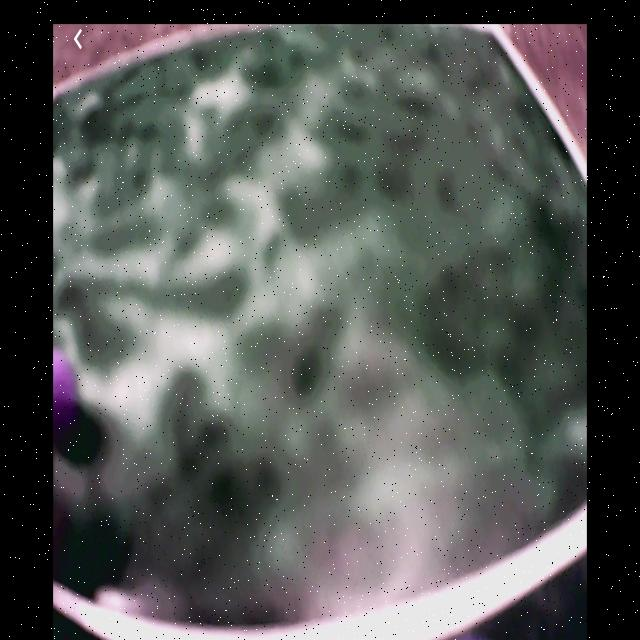ball: (55, 353, 79, 430)
